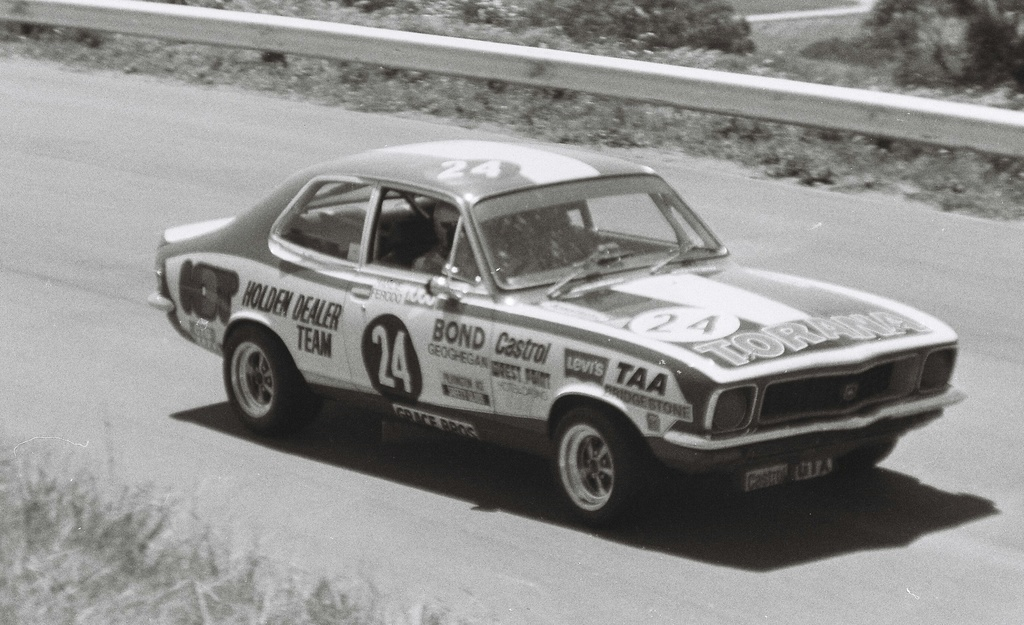mobil: (142, 133, 965, 523)
